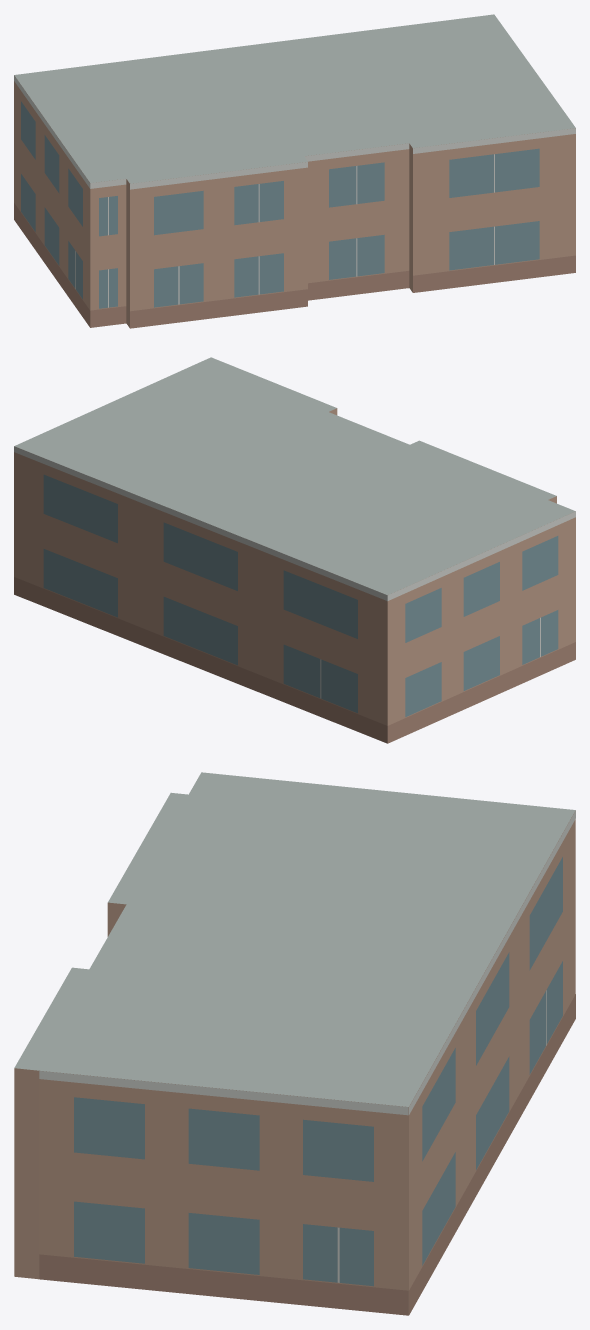
File: survey-upis-32554086.glb
3 renders of one model, top to bottom at view 1: azimuth 30°, elevation 25°; view 2: azimuth 150°, elevation 25°; view 3: azimuth 270°, elevation 25°, orthographic. The views are drawn at different scales.
Visible parts, largest first — view 1: survey-upis-32554086.tmp; view 2: survey-upis-32554086.tmp; view 3: survey-upis-32554086.tmp.
Boxes of the visible parts, bbox=[...] form: survey-upis-32554086.tmp: bbox=[14, 14, 575, 328]; survey-upis-32554086.tmp: bbox=[14, 357, 575, 743]; survey-upis-32554086.tmp: bbox=[14, 772, 575, 1315].
Size of the model in its own units: 21.01 by 6.1 by 14.9.
